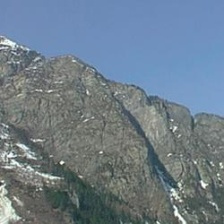neutral: (2, 11, 222, 222)
